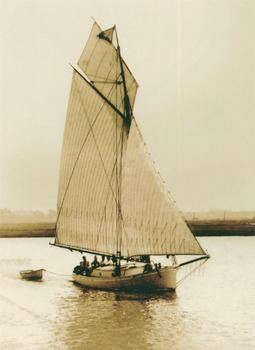fanchuan: (48, 12, 212, 304)
